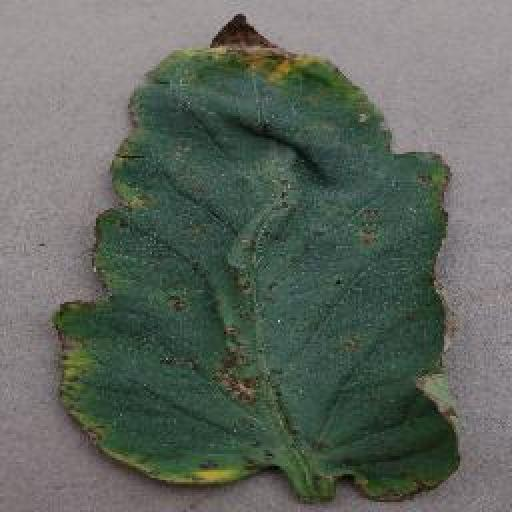Bacterial Spot: (44, 8, 476, 512)
